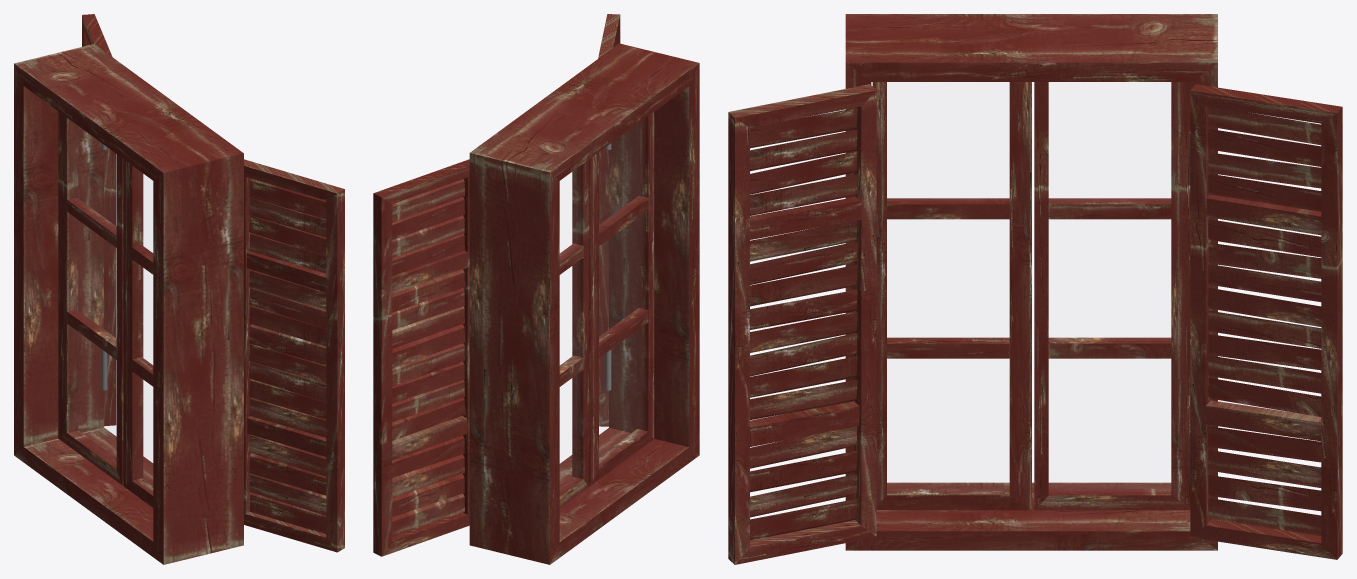
File: OldHouseWindowWoodDarkRedOpen.obj
The picture shows the model from 3 angles, left to right: view 1: azimuth 30°, elevation 25°; view 2: azimuth 150°, elevation 25°; view 3: azimuth 270°, elevation 25°; orthographic projection. The views are drawn at different scales.
Parts seen in each view (by area): view 1: Rectangle02, Rectangle03, Rectangle05, Rectangle01, Rectangle04; view 2: Rectangle02, Rectangle04, Rectangle01, Rectangle05, Rectangle03; view 3: Rectangle04, Rectangle03, Rectangle02, Rectangle05, Rectangle01.
Part boxes in pixels (x1,y1,x2,y2): Rectangle02: (14, 44, 243, 564); Rectangle03: (244, 159, 344, 552); Rectangle05: (58, 111, 123, 485); Rectangle01: (123, 159, 153, 507); Rectangle04: (82, 14, 116, 426); Rectangle02: (469, 43, 699, 564); Rectangle04: (373, 159, 469, 556); Rectangle01: (589, 112, 654, 485); Rectangle05: (559, 159, 589, 507); Rectangle03: (598, 14, 620, 426); Rectangle04: (1190, 84, 1342, 559); Rectangle03: (728, 84, 876, 564); Rectangle02: (845, 14, 1217, 550); Rectangle05: (1034, 82, 1193, 510); Rectangle01: (872, 82, 1031, 510).
Size of the model in its own units: 0.5843 by 1.6 by 1.83.
3 materials, 1 textured.
